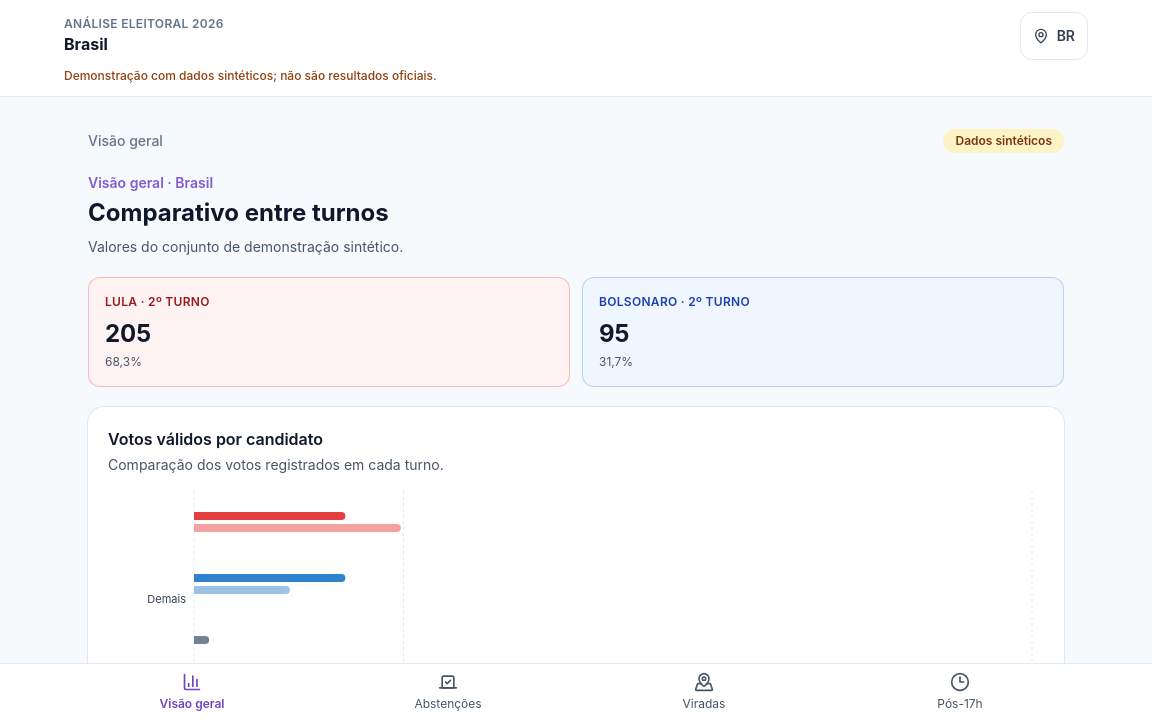
Test: election dashboard › offers a retry when an on-demand state request fails
Expected: the heading "Comparativo entre turnos" is shown, [88,198,389,227]
Click the button with aria-label "Selecionar estado" at (1054, 36), box [1020,12,1088,60]
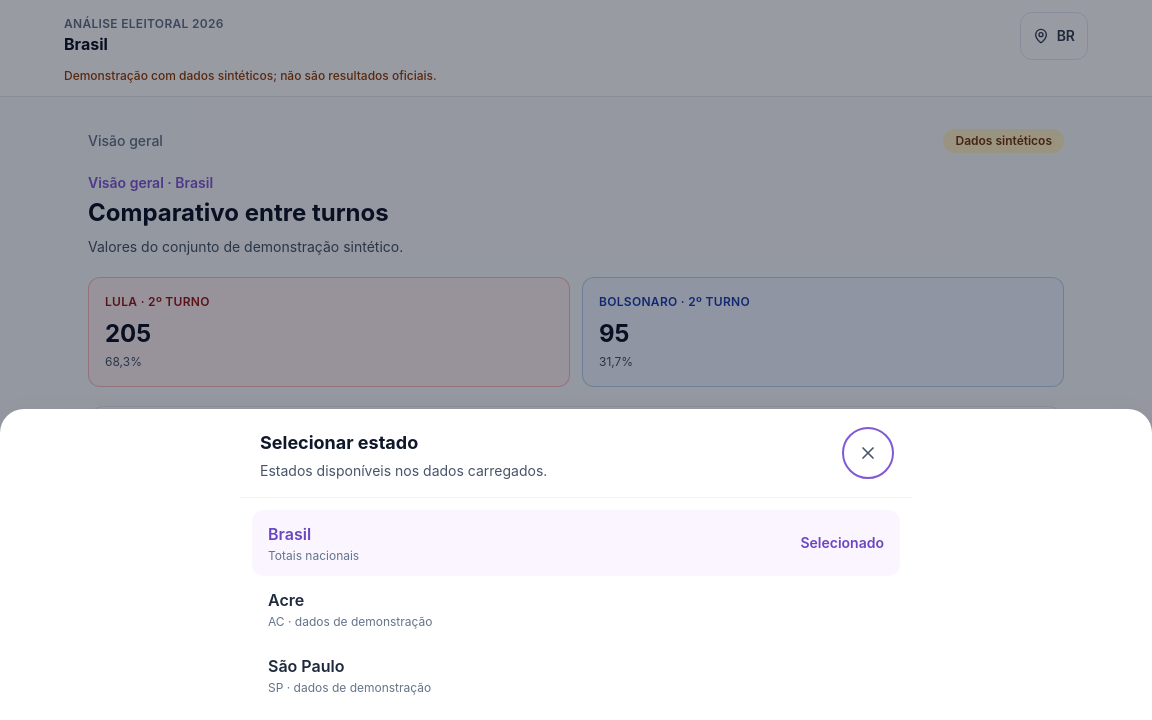
Click the button "Acre AC · dados de demonstração" at (286, 600), box [252,576,900,642]
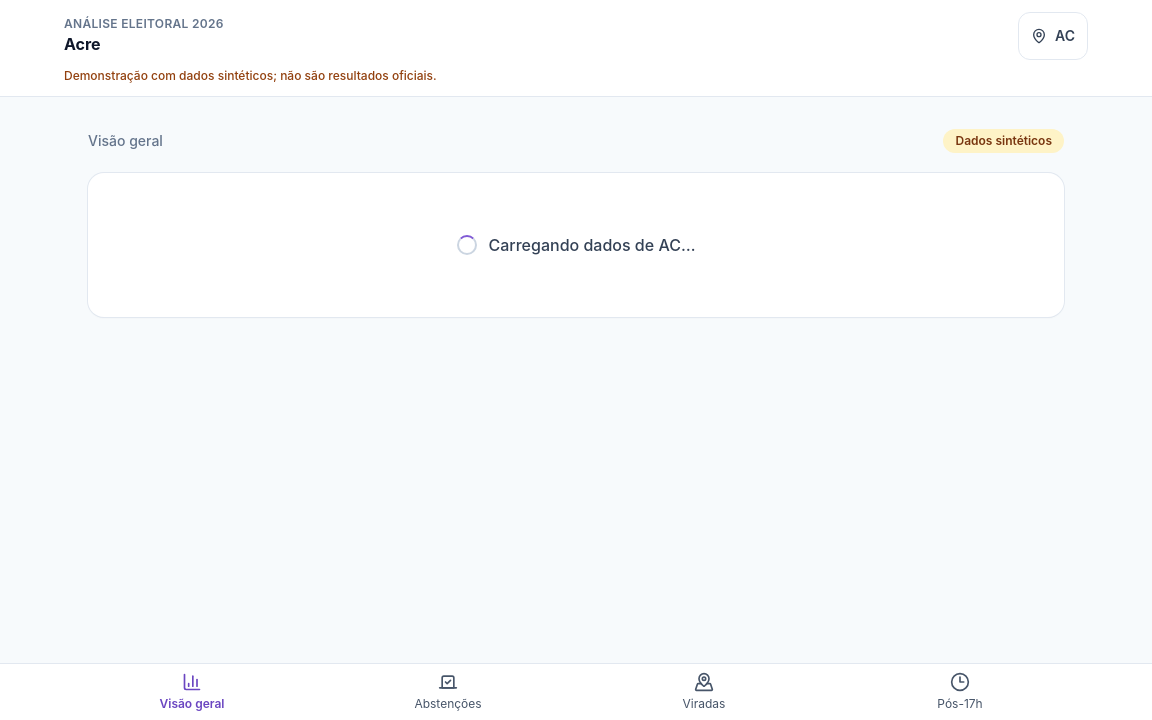
Click the button "Viradas" at (704, 692), box [576,664,832,719]
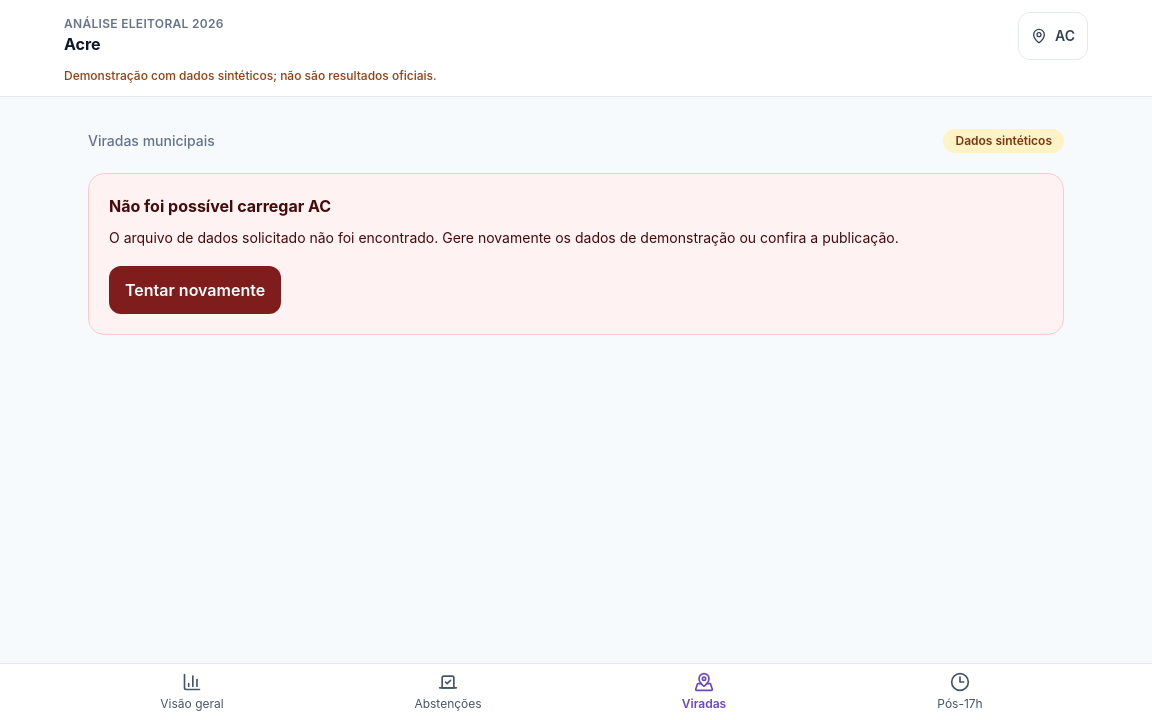
Result: the heading "Não foi possível carregar AC" is shown at [109,196,331,216]
Click the button "Tentar novamente" at (195, 290), box [109,266,281,314]
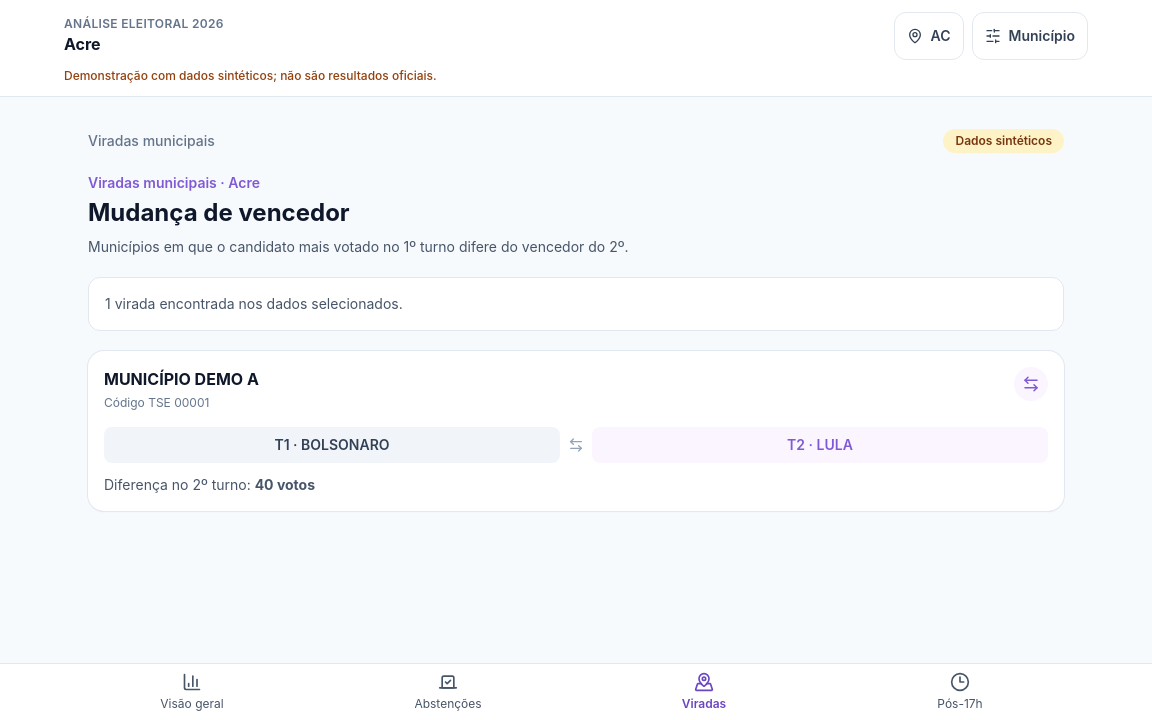
Result: the heading "Mudança de vencedor" is shown at [88,198,350,227]
Result: the heading "MUNICÍPIO DEMO A" is shown at [104,367,259,391]
